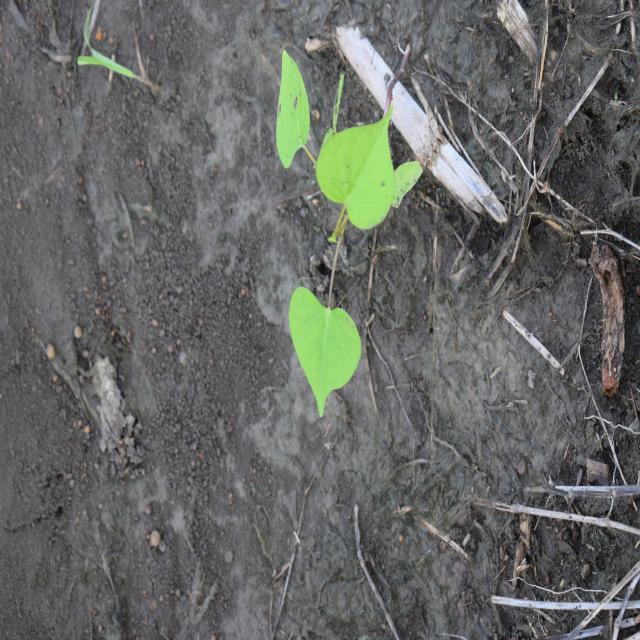MorningGlory: (274, 48, 424, 422)
